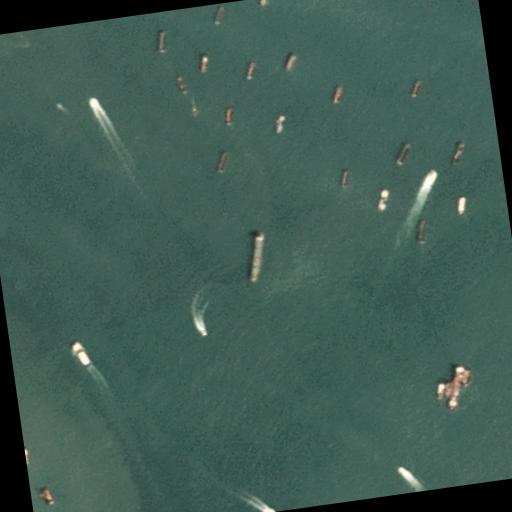ship: (386, 179, 442, 250), (0, 0, 28, 78), (240, 229, 272, 283), (186, 283, 214, 331), (85, 362, 115, 401), (398, 468, 428, 494), (70, 338, 92, 368), (374, 185, 394, 214), (394, 141, 414, 169), (448, 140, 468, 166), (412, 218, 428, 246), (210, 4, 228, 28), (214, 150, 230, 175), (282, 52, 300, 74), (406, 78, 424, 100), (272, 114, 288, 138), (328, 84, 346, 104), (454, 196, 470, 218), (154, 29, 168, 52), (196, 54, 212, 74), (175, 74, 189, 96), (338, 167, 352, 189), (243, 60, 258, 80), (41, 486, 55, 506), (223, 106, 235, 124), (426, 168, 439, 182), (189, 104, 198, 118), (90, 97, 98, 109), (200, 327, 208, 337)
